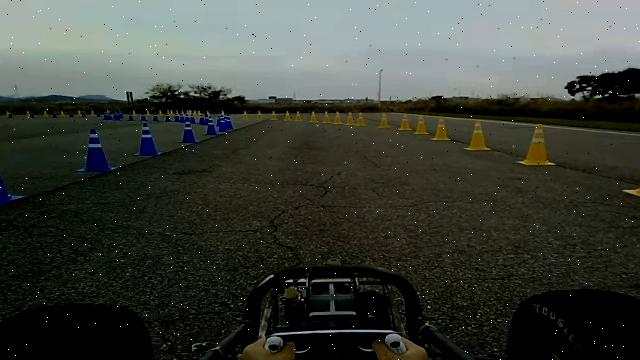blue cone: (75, 128, 117, 172), (0, 166, 26, 207), (132, 122, 162, 156), (178, 121, 198, 144), (204, 122, 217, 136), (216, 118, 228, 132)
yellow cone: (515, 123, 556, 166), (464, 119, 492, 151), (621, 172, 640, 198), (430, 118, 450, 140), (413, 115, 429, 134), (397, 113, 412, 130), (377, 112, 390, 128), (344, 112, 355, 126), (332, 110, 343, 124), (321, 110, 331, 124), (356, 112, 366, 126), (308, 110, 318, 123), (294, 110, 303, 122), (283, 110, 292, 121), (269, 109, 278, 120), (241, 109, 249, 120), (256, 109, 263, 120)
